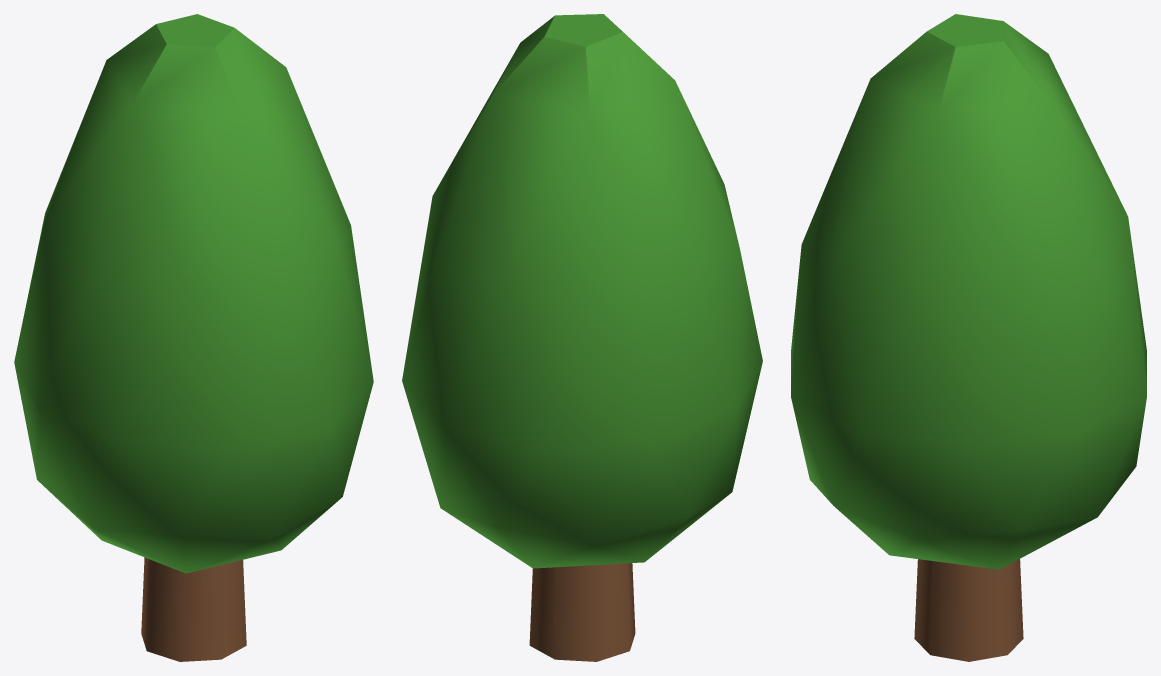
The model's file is Tree-4.fbx.
3 views of the same model, side by side, from view 1: azimuth 30°, elevation 25°; view 2: azimuth 150°, elevation 25°; view 3: azimuth 270°, elevation 25° (orthographic).
Parts seen in each view (by area): view 1: Icosphere.339, Cylinder.338; view 2: Icosphere.339, Cylinder.338; view 3: Icosphere.339, Cylinder.338.
Boxes of the visible parts, x1,y1,x2,y2 form: Icosphere.339: [14, 14, 373, 573]; Cylinder.338: [141, 557, 246, 661]; Icosphere.339: [402, 14, 762, 568]; Cylinder.338: [529, 563, 635, 661]; Icosphere.339: [791, 14, 1146, 569]; Cylinder.338: [914, 559, 1023, 661].
Size of the model in its own units: 46.02 by 86.79 by 46.02.
